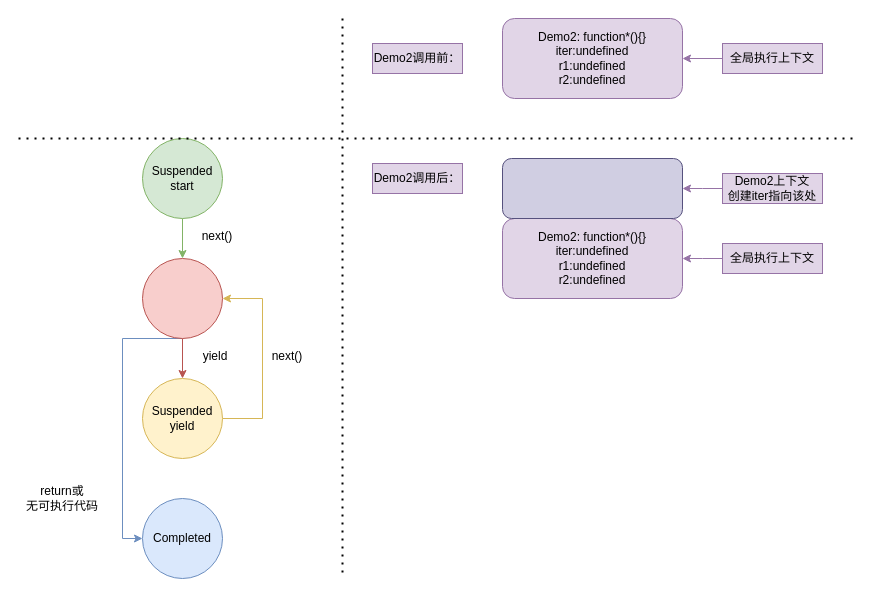
Some shapes in this 871 by 597 pixel diagram are drawn without their labels. The shapes that lost their labels are listed below. From the top down, each one's box as (x1, y1, x2, y2) in pixels, then its label:
(502, 158, 682, 218): action: 'test'
(142, 258, 222, 338): Executing
